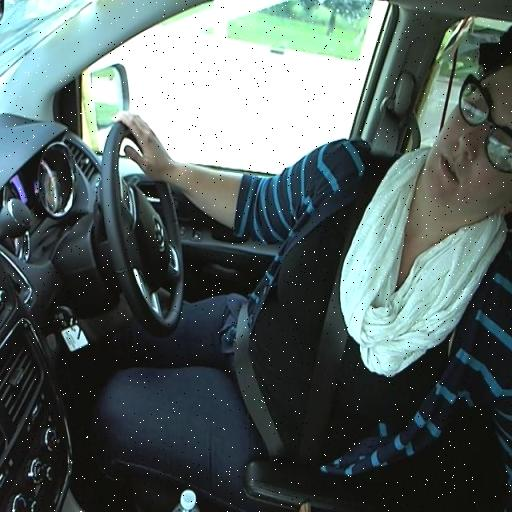turning: (100, 60, 511, 401)
